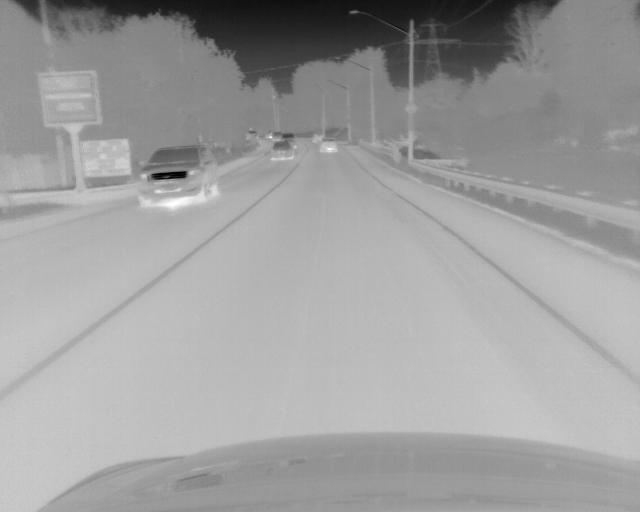car: (134, 145, 220, 208), (269, 140, 295, 162), (319, 138, 337, 154), (263, 131, 280, 140), (246, 130, 259, 141), (312, 133, 324, 143), (282, 133, 294, 142)
